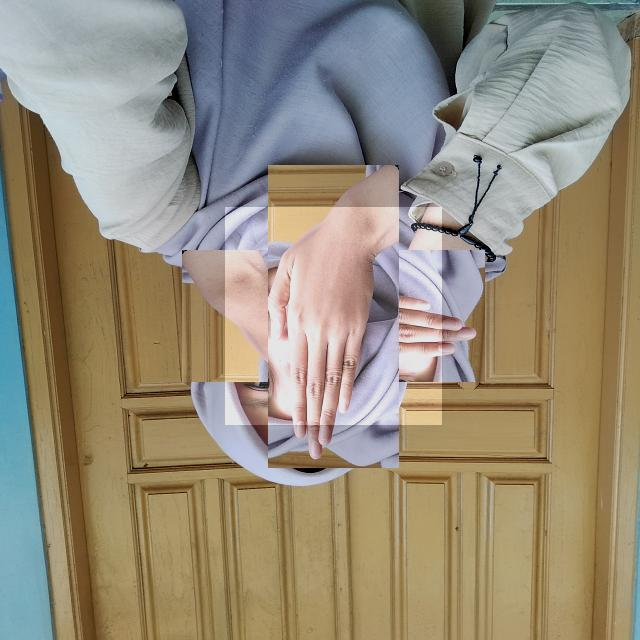buruk: (225, 207, 442, 425)
